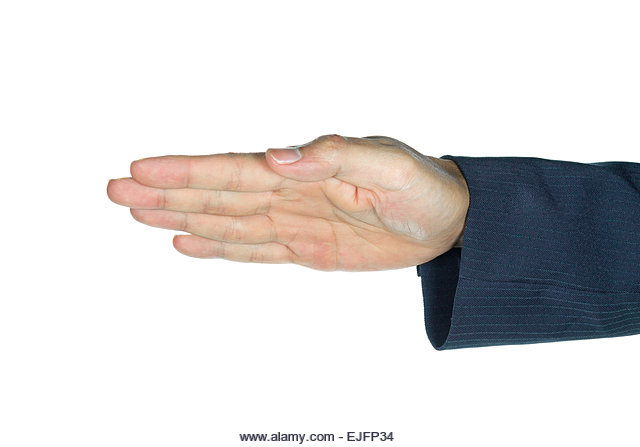hand: (95, 124, 465, 302)
